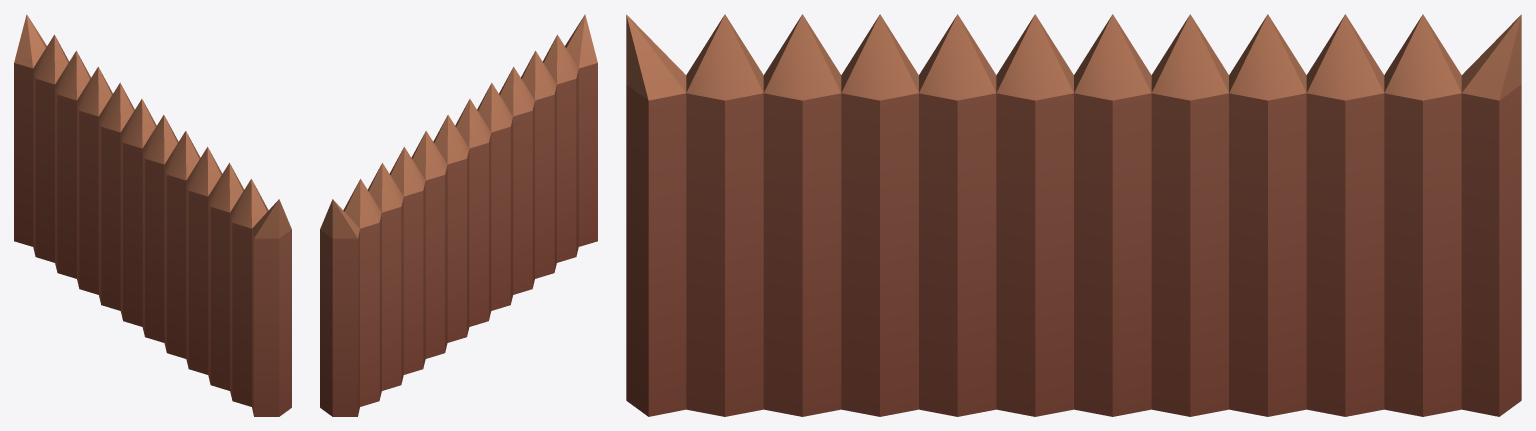
Rendered from fence_wood.gltf.
3 renders of one model, left to right at view 1: azimuth 30°, elevation 25°; view 2: azimuth 150°, elevation 25°; view 3: azimuth 270°, elevation 25°, orthographic. The views are drawn at different scales.
Visible parts, largest first — view 1: fence_wood_straight; view 2: fence_wood_straight; view 3: fence_wood_straight.
Part boxes in pixels (x1=…): fence_wood_straight: x1=14, y1=14, x2=291, y2=416; fence_wood_straight: x1=320, y1=14, x2=597, y2=416; fence_wood_straight: x1=626, y1=14, x2=1521, y2=416.
Size of the model in its own units: 0.1 by 0.55 by 1.15.
1 material, 1 textured.
